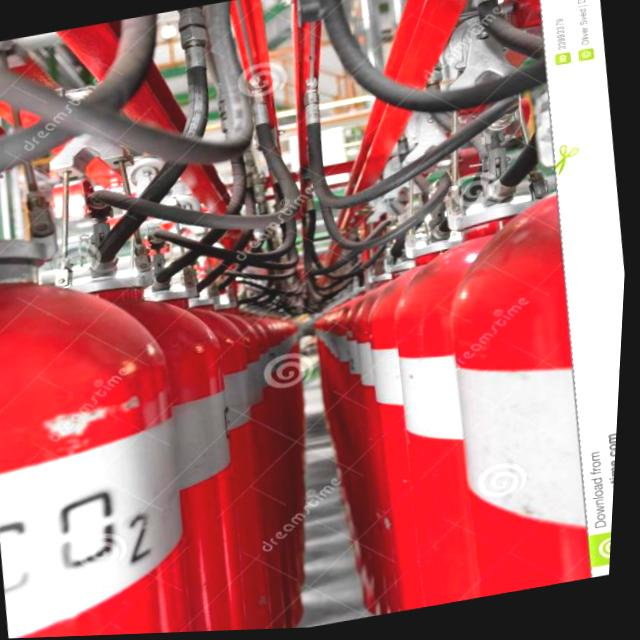FireExtinguisher: (362, 189, 615, 614), (0, 199, 235, 640), (28, 242, 279, 638), (414, 151, 630, 605)
